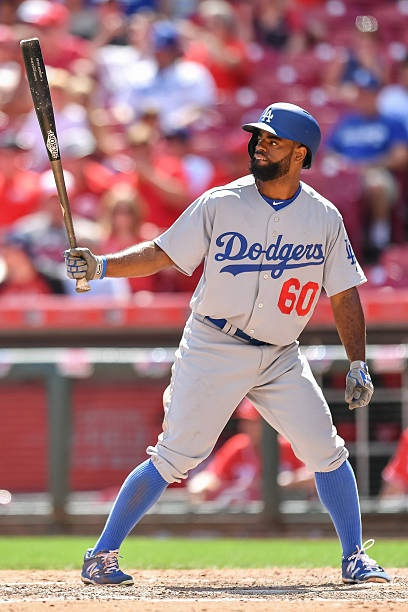bita: (20, 38, 84, 291)
